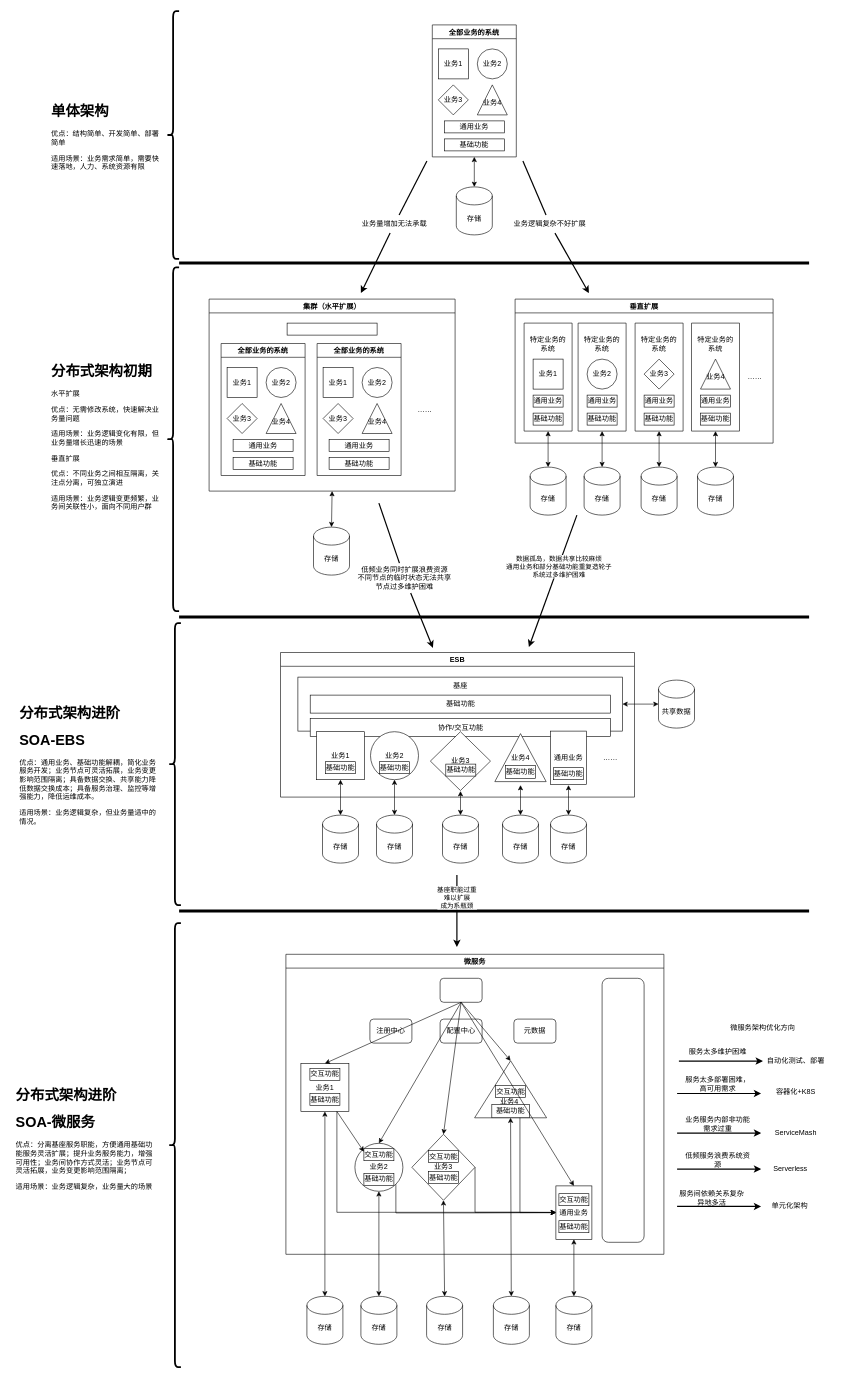
Some shapes in this 842 by 1378 pixel diagram are drawn without their labels. Each missing label, with the centre of its shape:
监控 管理: the point at 623,1110
网关: the point at 461,990
负载均衡: the point at 331,328
